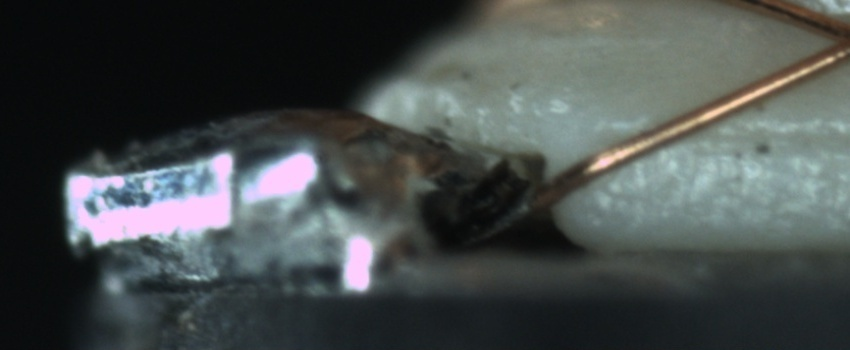CL: (802, 10, 850, 75)
DL: (675, 104, 846, 171)
